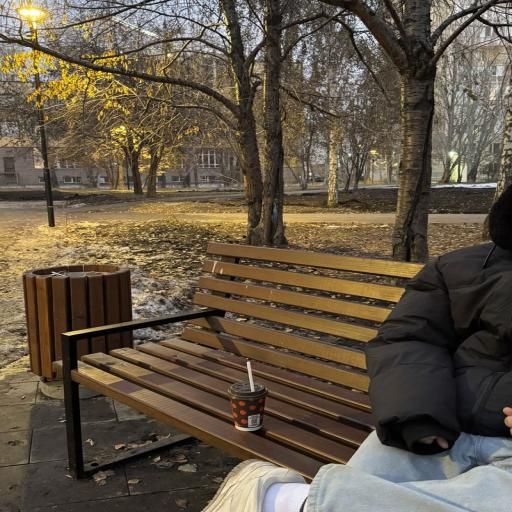ramp: (23, 264, 133, 378)
trash_bin: (54, 242, 423, 480)
